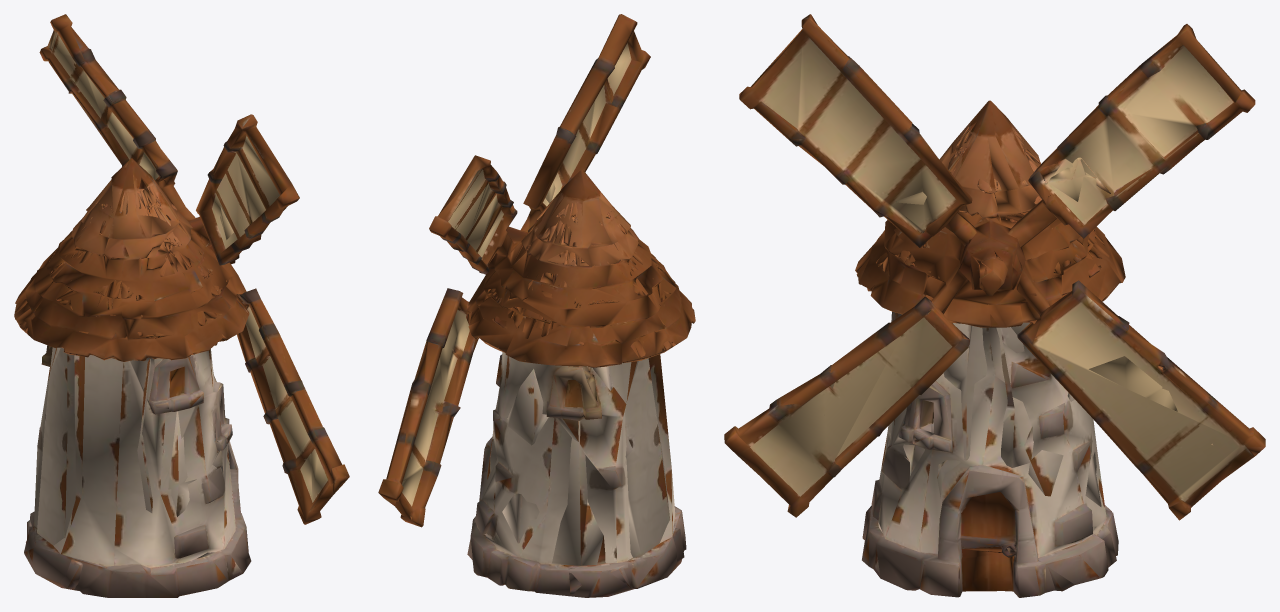
File: windmill.glb
The picture shows the model from 3 angles, left to right: view 1: azimuth 30°, elevation 25°; view 2: azimuth 150°, elevation 25°; view 3: azimuth 270°, elevation 25°; orthographic projection. The views are drawn at different scales.
Parts seen in each view (by area): view 1: Mesh_0; view 2: Mesh_0; view 3: Mesh_0.
Boxes of the visible parts, box(x1,y1,x2,y2) form: Mesh_0: box(14, 14, 349, 597); Mesh_0: box(378, 14, 695, 597); Mesh_0: box(724, 14, 1265, 597).
Size of the model in its own units: 2.27 by 4.6 by 4.11.
1 material, 1 textured.
